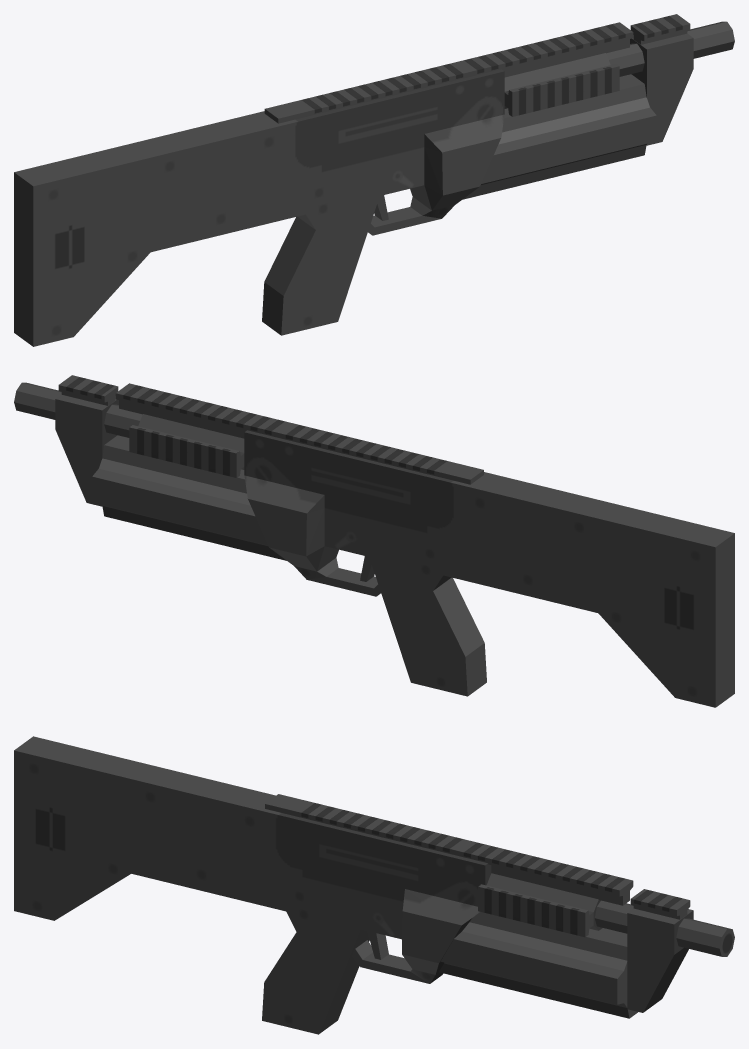
The model's file is SRM1208.FBX.
3 renders of one model, top to bottom at view 1: azimuth 30°, elevation 25°; view 2: azimuth 150°, elevation 25°; view 3: azimuth 330°, elevation 25°, orthographic.
Visible parts, largest first — view 1: SRM1208; view 2: SRM1208; view 3: SRM1208.
Part boxes in pixels (left/top/right/bottom): SRM1208: left=14, top=14, right=734, bottom=346; SRM1208: left=14, top=375, right=734, bottom=707; SRM1208: left=14, top=736, right=734, bottom=1034.
Size of the model in its own units: 80.91 by 23.6 by 8.16.
